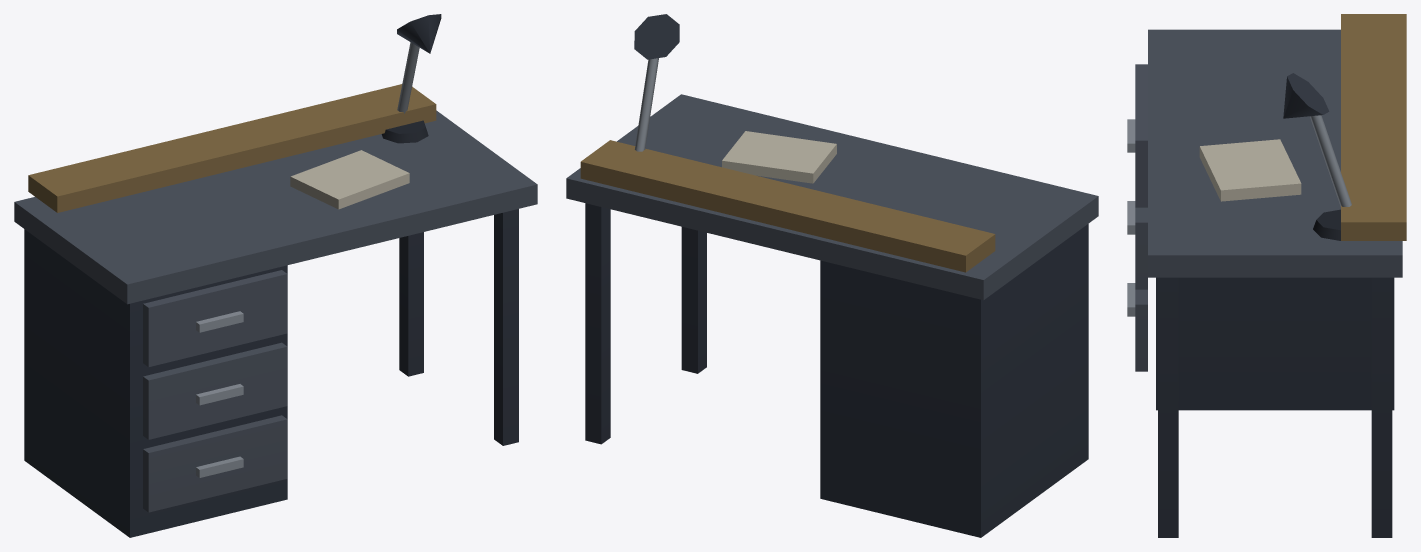
The model's file is guard-desk.glb.
The picture shows the model from 3 angles, left to right: view 1: azimuth 30°, elevation 25°; view 2: azimuth 150°, elevation 25°; view 3: azimuth 270°, elevation 25°; orthographic projection. The views are drawn at different scales.
Visible parts, largest first — view 1: guard_desk; view 2: guard_desk; view 3: guard_desk.
Part boxes in pixels (x1,y1,x2,y2): guard_desk: [14, 14, 537, 537]; guard_desk: [566, 14, 1098, 537]; guard_desk: [1127, 14, 1406, 537].
Size of the model in its own units: 1.3 by 1.19 by 0.68.
